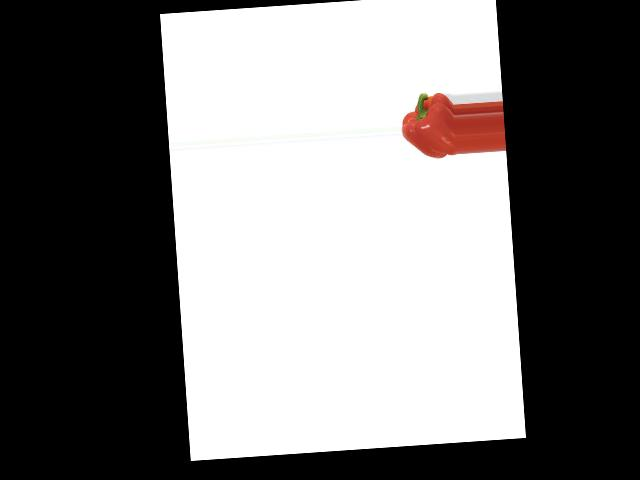bell_pepper: (398, 82, 458, 168)
